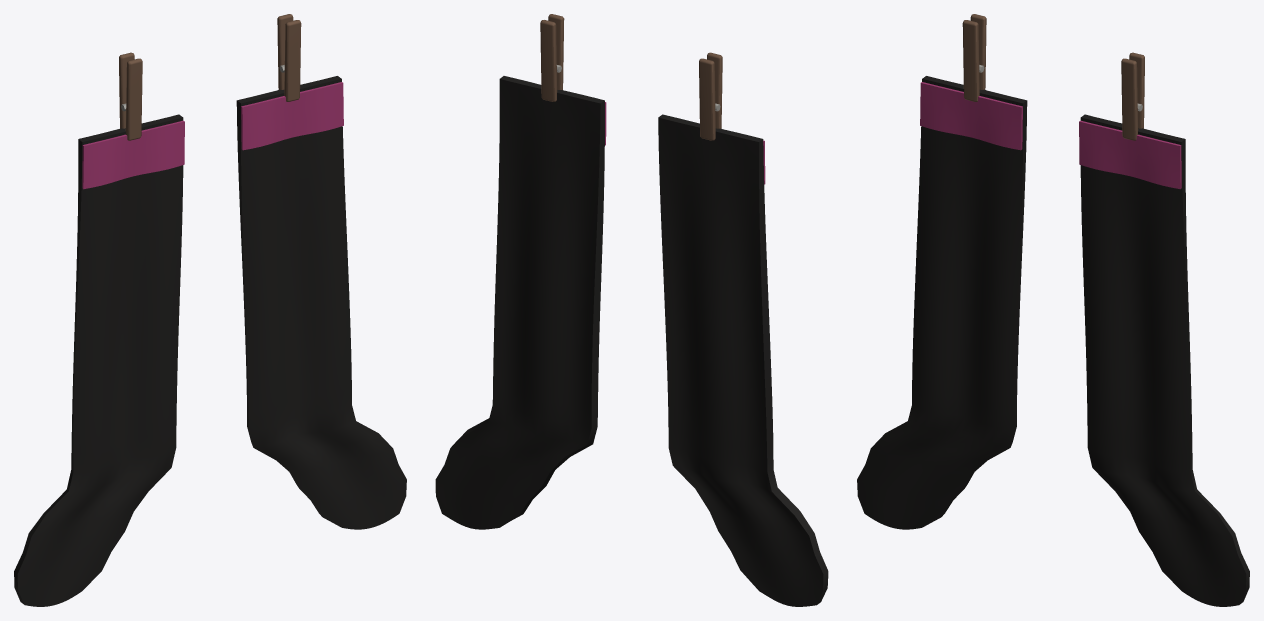
The model's file is socks-line-vibe-01430ce9da7d.glb.
3 renders of one model, left to right at view 1: azimuth 30°, elevation 25°; view 2: azimuth 150°, elevation 25°; view 3: azimuth 330°, elevation 25°, orthographic.
Parts seen in each view (by area): view 1: rubber, accent-magenta, wood; view 2: rubber, wood; view 3: rubber, accent-magenta, wood.
Part boxes in pixels (x1=…): rubber: x1=14, y1=76, x2=406, y2=606; accent-magenta: x1=82, y1=82, x2=343, y2=189; wood: x1=119, y1=14, x2=301, y2=140; rubber: x1=435, y1=76, x2=828, y2=606; wood: x1=540, y1=14, x2=722, y2=140; rubber: x1=857, y1=76, x2=1249, y2=606; accent-magenta: x1=920, y1=82, x2=1181, y2=189; wood: x1=962, y1=14, x2=1144, y2=140.
Bounding box in the file's own units: 0.275 × 0.356 × 0.014.
